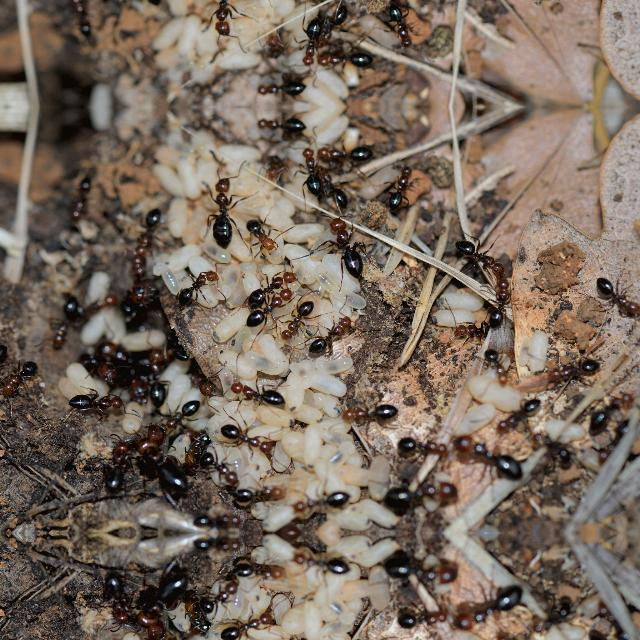Camponotus: (454, 430, 530, 480), (454, 585, 530, 635), (134, 434, 192, 496), (134, 569, 192, 631), (200, 171, 246, 247), (322, 216, 374, 278), (380, 476, 462, 508), (380, 557, 462, 589), (580, 388, 636, 430), (452, 236, 510, 274), (127, 204, 169, 256), (46, 295, 88, 347), (100, 568, 138, 624), (306, 314, 358, 354), (100, 442, 138, 496), (216, 420, 276, 454), (136, 351, 174, 404), (529, 427, 581, 465), (492, 394, 544, 432), (480, 276, 518, 328), (529, 600, 581, 638), (378, 163, 419, 210), (378, 1, 419, 48), (61, 172, 99, 222), (226, 378, 288, 408), (214, 610, 276, 640), (286, 486, 352, 514), (593, 275, 639, 315), (244, 270, 298, 304), (294, 146, 330, 197), (294, 15, 330, 66), (73, 290, 121, 328), (199, 0, 244, 40), (174, 268, 222, 304), (286, 552, 352, 578), (478, 344, 516, 388), (336, 398, 400, 424), (198, 448, 244, 484), (65, 390, 128, 416), (546, 354, 604, 382), (99, 366, 148, 398), (242, 294, 288, 328), (198, 582, 244, 616), (244, 218, 286, 255), (312, 140, 376, 164), (312, 48, 376, 72), (120, 282, 160, 320), (61, 0, 99, 38), (250, 111, 310, 135), (250, 77, 310, 101), (313, 174, 355, 208), (313, 4, 355, 38), (393, 434, 452, 458), (393, 607, 452, 631), (160, 398, 204, 430), (282, 298, 320, 334), (0, 360, 40, 394), (181, 598, 215, 638), (448, 318, 504, 342), (229, 481, 287, 504), (181, 428, 215, 467), (229, 562, 287, 584), (184, 366, 223, 398), (97, 339, 145, 365), (76, 348, 118, 377), (192, 510, 246, 532), (192, 533, 246, 555), (258, 149, 290, 185), (258, 27, 290, 63), (126, 248, 154, 284), (169, 330, 197, 362), (0, 343, 12, 377)
